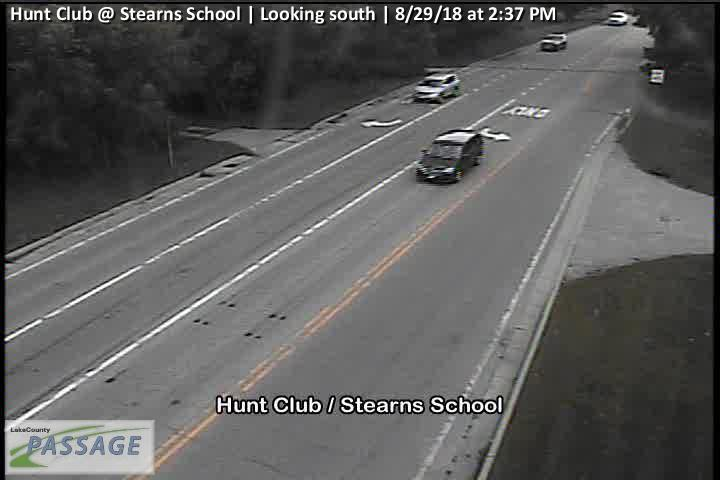SUV: (416, 130, 483, 185), (414, 73, 460, 103)
Sedan: (539, 31, 567, 52), (606, 11, 628, 25)
